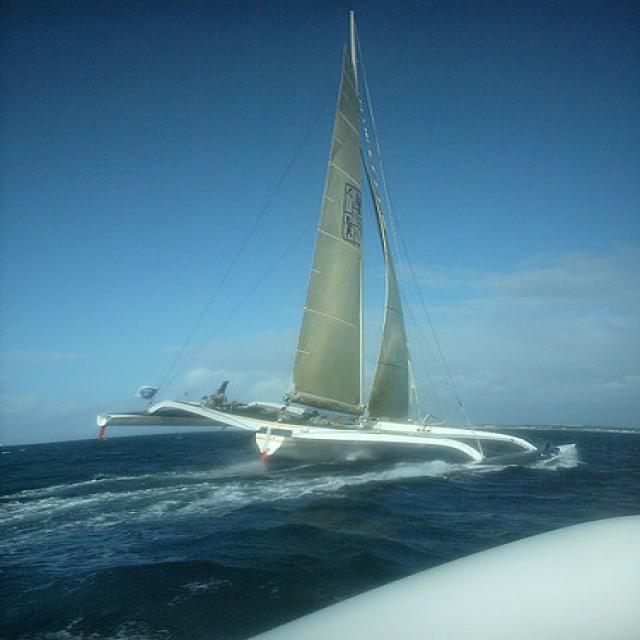Ship: (161, 10, 546, 483)
